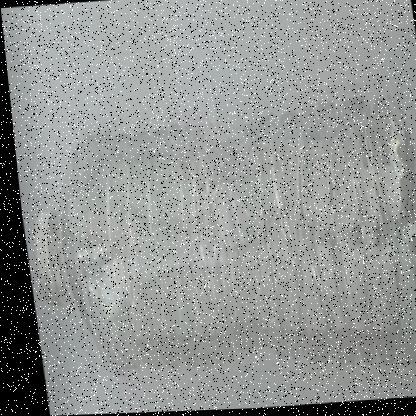bottle cap: (11, 117, 150, 399)
